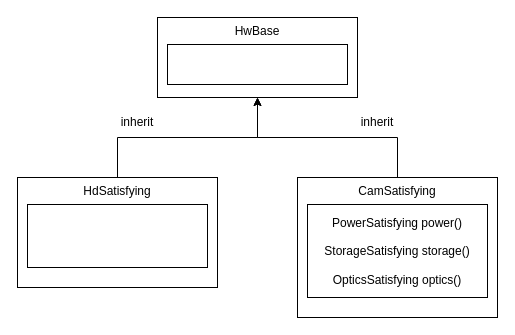
Image size: 515x335. Some labels were removed from this diagram. Each missing label, with the centre of its shape:
PowerSatisfying power() StorageSatisfying storage(): point 117,236
std::string name(): point 257,64
